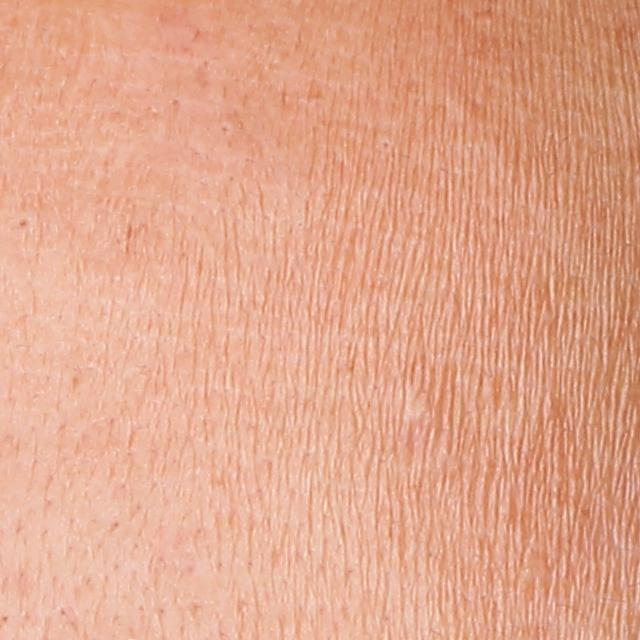comedo: (394, 387, 441, 425), (15, 215, 32, 230), (217, 122, 232, 139)
